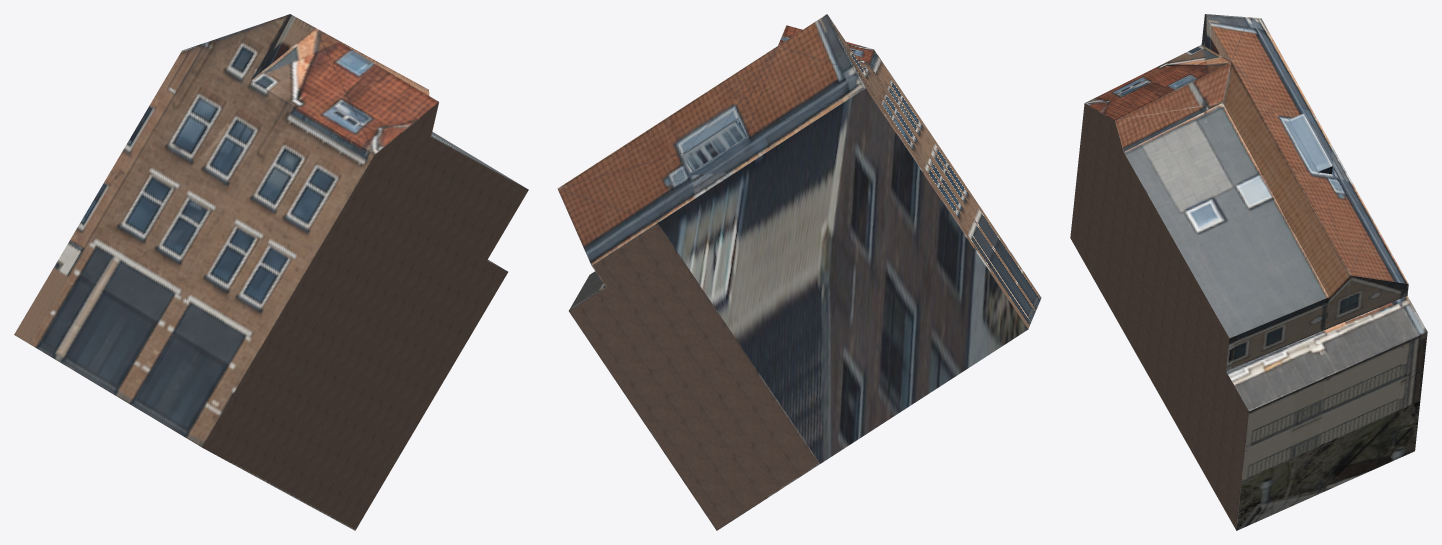
The picture shows the model from 3 angles, left to right: view 1: azimuth 30°, elevation 25°; view 2: azimuth 150°, elevation 25°; view 3: azimuth 270°, elevation 25°; orthographic projection. The views are drawn at different scales.
Visible parts, largest first — view 1: BAG_0599100000760381 (×4); view 2: BAG_0599100000760381 (×6); view 3: BAG_0599100000760381 (×6).
Boxes of the visible parts, x1=… form: BAG_0599100000760381 (×4): x1=14, y1=14, x2=528, y2=530; BAG_0599100000760381 (×6): x1=558, y1=14, x2=1041, y2=530; BAG_0599100000760381 (×6): x1=1070, y1=14, x2=1427, y2=530.
Bounding box in the file's own units: 21.05 × 21.94 × 14.76.
1 material, 1 textured.
